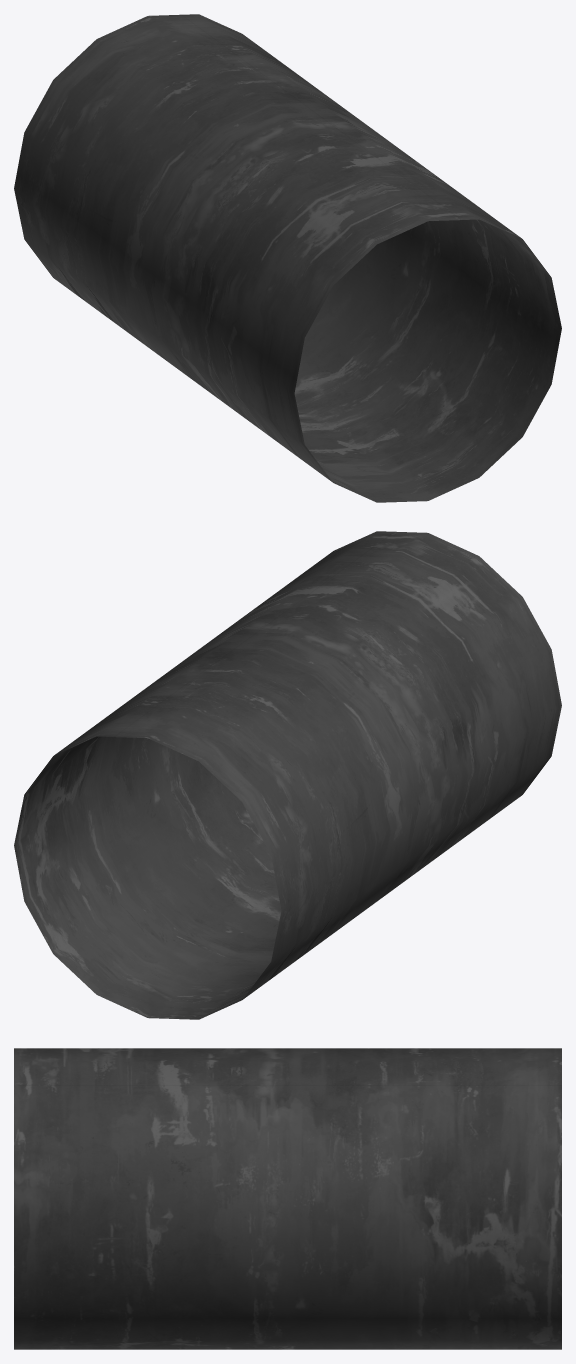
File: pipe_002.fbx
3 views of the same model, one above another, from view 1: azimuth 30°, elevation 25°; view 2: azimuth 150°, elevation 25°; view 3: azimuth 270°, elevation 25° (orthographic). The views are drawn at different scales.
Visible parts, largest first — view 1: pipe_002; view 2: pipe_002; view 3: pipe_002.
Boxes of the visible parts, bbox=[...] form: pipe_002: bbox=[14, 14, 561, 502]; pipe_002: bbox=[14, 531, 561, 1019]; pipe_002: bbox=[14, 1048, 561, 1349].
Size of the model in its own units: 881 by 1600 by 881.
